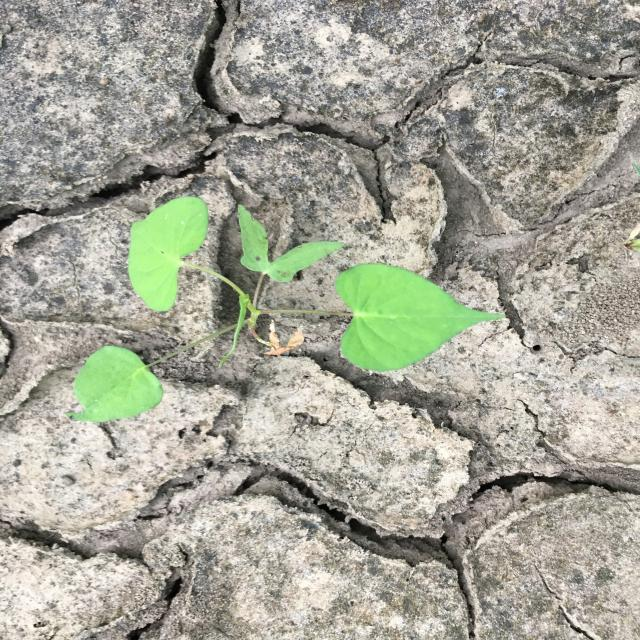MorningGlory: (66, 197, 506, 423)
